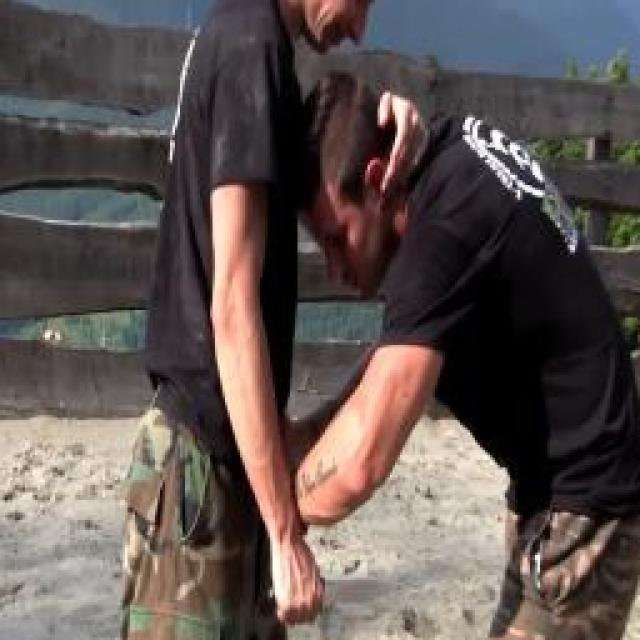knife: (262, 558, 400, 630)
